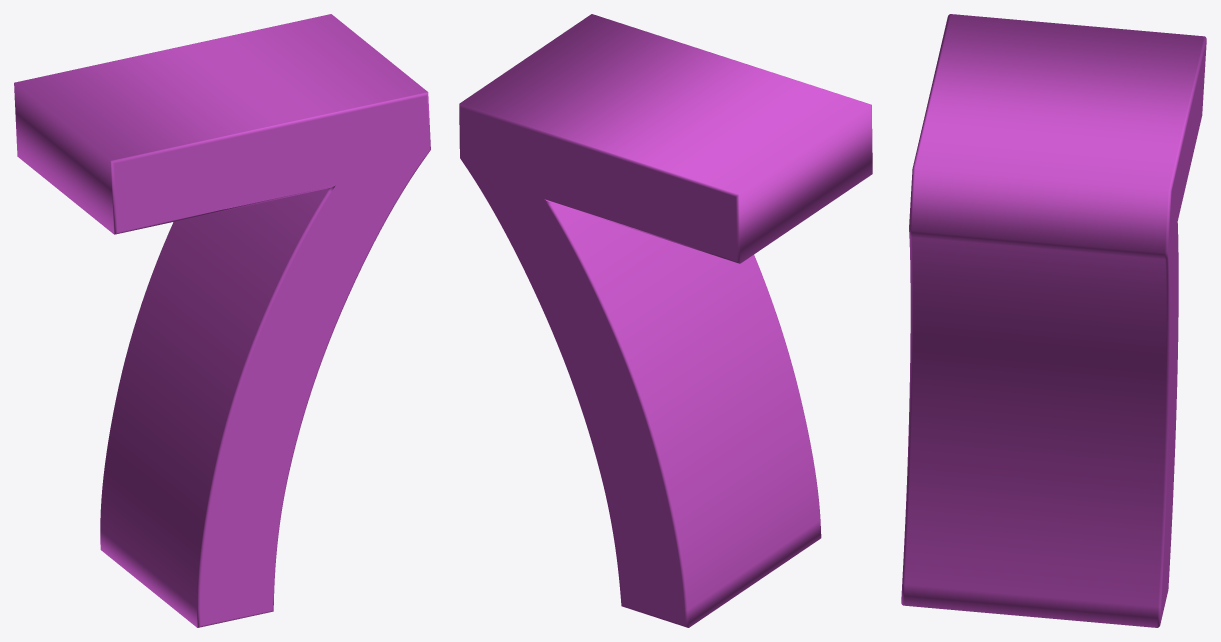
The picture shows the model from 3 angles, left to right: view 1: azimuth 30°, elevation 25°; view 2: azimuth 150°, elevation 25°; view 3: azimuth 270°, elevation 25°; orthographic projection. The views are drawn at different scales.
Parts seen in each view (by area): view 1: Text; view 2: Text; view 3: Text.
Part boxes in pixels (x1=…): Text: x1=14, y1=14, x2=430, y2=627; Text: x1=459, y1=14, x2=872, y2=627; Text: x1=901, y1=14, x2=1206, y2=627.
Bounding box in the file's own units: 95.96 × 140 × 71.97.
